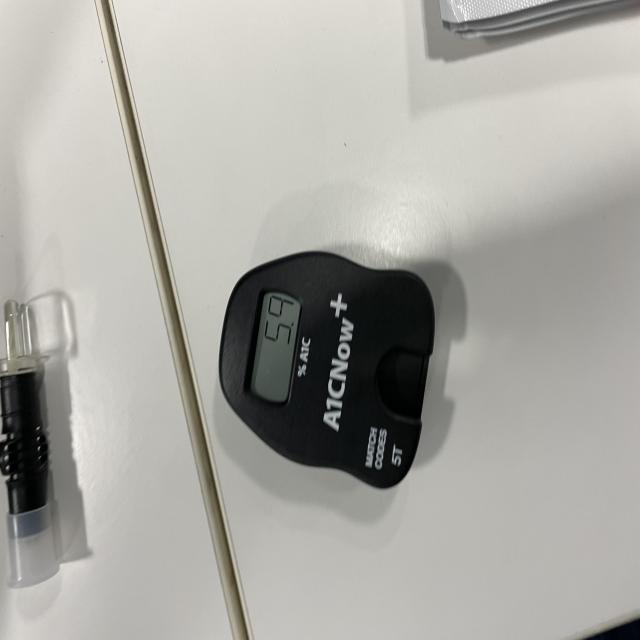hba1c: (218, 252, 441, 492)
